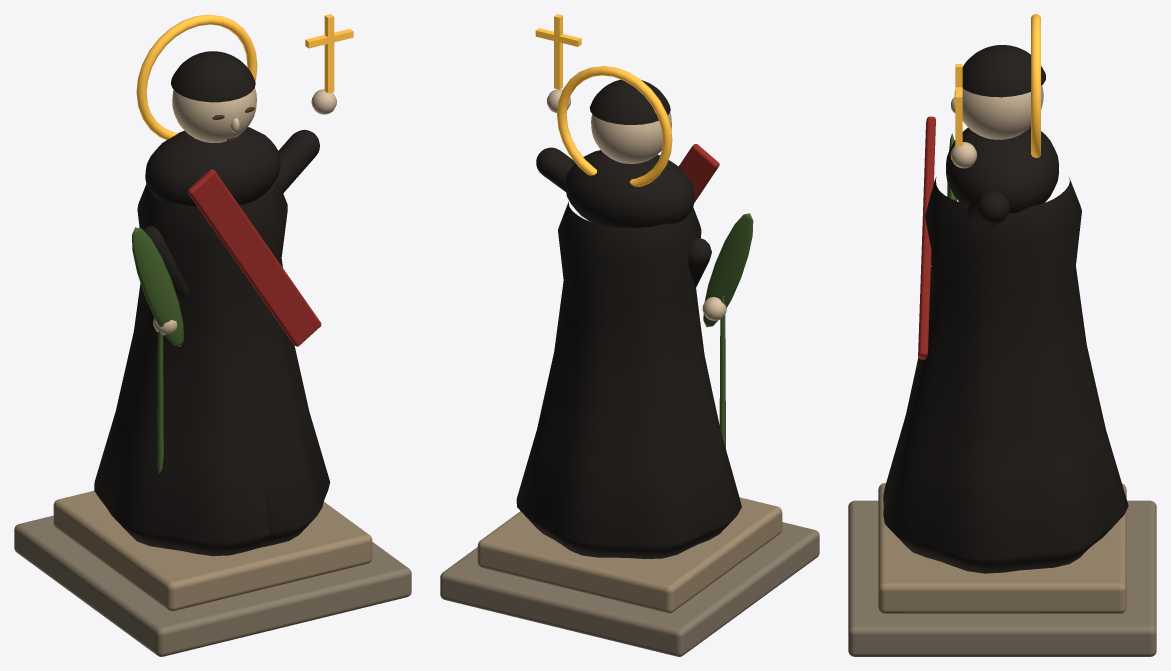
Rendered from statue-anre.glb.
3 renders of one model, left to right at view 1: azimuth 30°, elevation 25°; view 2: azimuth 150°, elevation 25°; view 3: azimuth 270°, elevation 25°, orthographic. The views are drawn at different scales.
Visible parts, largest first — view 1: Robe, PlinthLow, PlinthTop, Shoulders, Stole, Hair, Palm, Head, object 19, ArmR, Cross, object 17 (+1 smaller); view 2: Robe, PlinthLow, PlinthTop, Shoulders, object 19, Head, Palm, Hair, Stole, ArmR, Cross, object 17 (+1 smaller); view 3: Robe, PlinthLow, PlinthTop, Shoulders, Hair, Head, Stole, object 19, ArmR, Cross, HandR.
Part boxes in pixels (x1,y1,x2,y2): Robe: (94, 180, 330, 556); PlinthLow: (14, 515, 411, 656); PlinthTop: (53, 491, 372, 611); Shoulders: (145, 127, 280, 206); Stole: (187, 169, 321, 346); Hair: (171, 51, 255, 102); Palm: (132, 227, 183, 346); Head: (172, 88, 256, 142); object 19: (136, 14, 257, 139); ArmR: (255, 129, 319, 200); Cross: (305, 14, 353, 93); object 17: (157, 331, 163, 473); Robe: (516, 201, 741, 558); PlinthLow: (440, 522, 819, 656); PlinthTop: (477, 497, 782, 613); Shoulders: (565, 150, 694, 227); object 19: (557, 66, 672, 186); Head: (591, 112, 671, 163); Palm: (703, 213, 753, 327); Hair: (589, 79, 670, 124); Stole: (678, 144, 719, 202); ArmR: (536, 147, 575, 191); Cross: (535, 14, 581, 89); object 17: (719, 295, 725, 448); Robe: (883, 177, 1128, 573); PlinthLow: (848, 500, 1156, 656); PlinthTop: (878, 483, 1126, 613); Shoulders: (946, 127, 1058, 213); Hair: (962, 45, 1045, 97); Head: (954, 85, 1043, 139); Stole: (918, 116, 935, 359); object 19: (1031, 14, 1040, 157); ArmR: (967, 191, 1009, 229); Cross: (955, 64, 962, 145); HandR: (950, 142, 977, 168).
Size of the model in its own units: 0.92 by 1.9 by 0.92.
